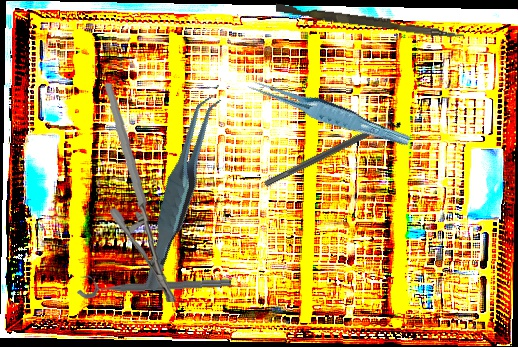Fixation Ring: (259, 106, 404, 195), (76, 265, 232, 300)
Needle Holder: (93, 82, 188, 303)
Pusher: (274, 3, 466, 40)
Tissue Forceps: (106, 91, 255, 292), (245, 66, 412, 158)
